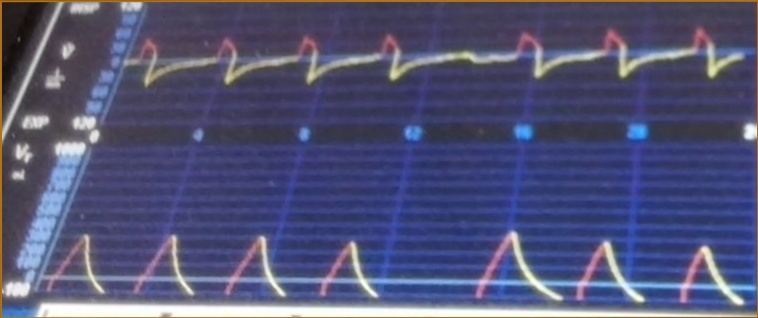Ineffective_effort Flow: (130, 21, 742, 105)
Ineffective_effort Volume: (45, 220, 743, 305)
